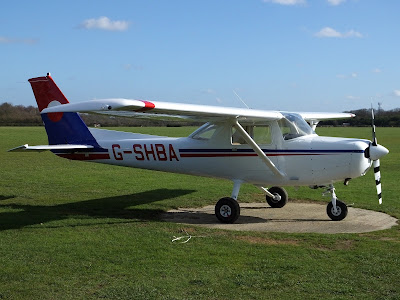Aeronef_de_loisir: (3, 69, 392, 231)
